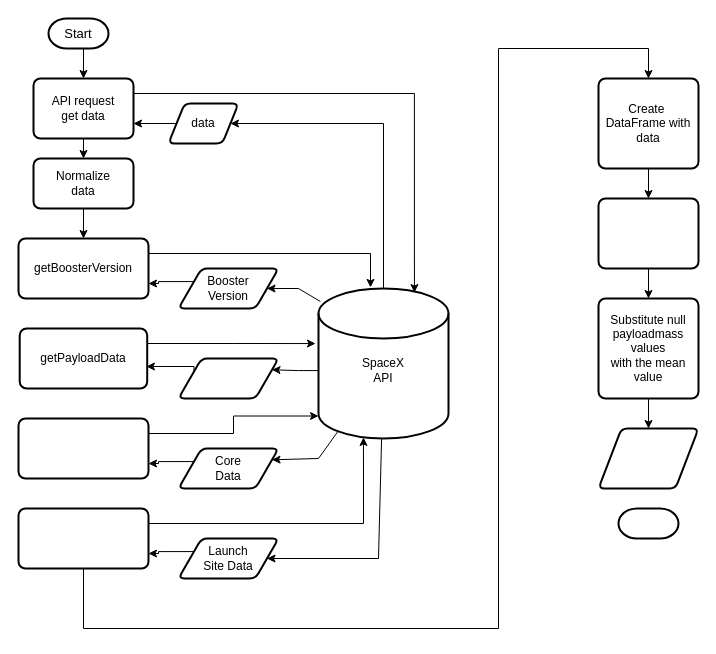
This 716x654 diagram has some shape labels left out. Each missing label, with the centre of its shape:
End: (648,523)
Generate csv file: (648,458)
getCoreData: (83,448)
getLaunchSite: (83,538)
Payload Data: (228,378)
Remove data of Falcon 1: (648,233)
